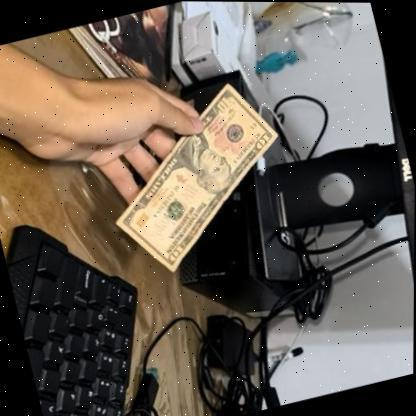dollar_front: (88, 72, 306, 281)
